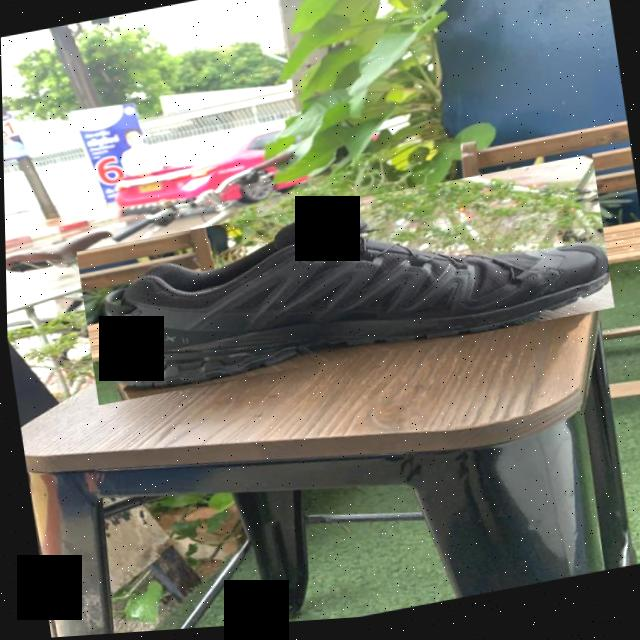shoe: (74, 161, 614, 407)
